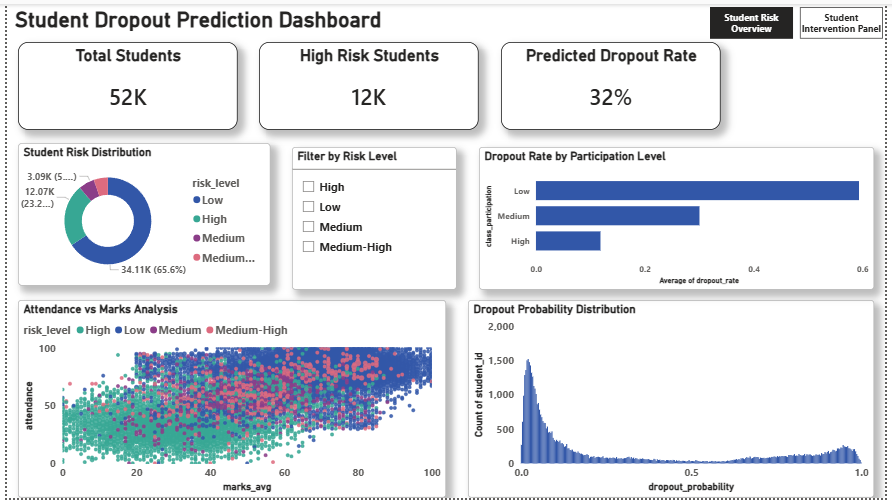

The dashboard page shown, as its layout file describes it:
{"tool":"powerbi","page":{"name":"Student Risk Overview","canvas":[1280,720],"ordinal":0},"visuals":[{"type":"cardVisual","title":"Total Students","fields":{"Data":["CountNonNull(dashboard_data.student_id)"]},"box":[16,55,320,128],"z":0},{"type":"cardVisual","title":"High Risk Students","fields":{"Data":["dashboard_data.High Risk Students"]},"box":[368,55,320,128],"z":1000},{"type":"cardVisual","title":"Predicted Dropout Rate","fields":{"Data":["dashboard_data.Dropout Rate"]},"box":[720,55,320,128],"z":2000},{"type":"donutChart","title":" Student Risk Distribution","fields":{"Category":["dashboard_data.risk_level"],"Y":["CountNonNull(dashboard_data.student_id)"]},"box":[16,203,368,208],"z":3000},{"type":"scatterChart","title":"Attendance vs Marks Analysis","fields":{"X":["dashboard_data.marks_avg"],"Y":["dashboard_data.attendance"],"Series":["dashboard_data.risk_level"],"Size":["CountNonNull(dashboard_data.student_id)"]},"box":[16,432,624,288],"z":4000},{"type":"slicer","title":"Filter by Risk Level","fields":{"Values":["dashboard_data.risk_level"]},"box":[416,208,240,208],"z":5000},{"type":"columnChart","title":"Dropout Probability Distribution","fields":{"Y":["CountNonNull(dashboard_data.student_id)"],"Category":["dashboard_data.dropout_probability"]},"box":[672,432,592,288],"z":6000},{"type":"pageNavigator","box":[1024,5,252,46],"z":7000},{"type":"shape","title":"Student Dropout Prediction Dashboard","box":[12,5,623,48],"z":8000},{"type":"clusteredBarChart","title":"Dropout Rate by Participation Level","fields":{"Category":["dropout_by_participation.class_participation"],"Y":["Avg(dropout_by_participation.dropout_rate)"]},"box":[688,208,576,208],"z":9000}]}

Visuals, with their boxes in screenshot pixels (x1, y1, x2, y2), scaled from the page's 1280x720 canvas onto the 892x502 screenshot:
"Total Students" cardVisual: {"left": 11, "top": 38, "right": 234, "bottom": 128}
"High Risk Students" cardVisual: {"left": 256, "top": 38, "right": 479, "bottom": 128}
"Predicted Dropout Rate" cardVisual: {"left": 502, "top": 38, "right": 725, "bottom": 128}
" Student Risk Distribution" donutChart: {"left": 11, "top": 142, "right": 268, "bottom": 287}
"Attendance vs Marks Analysis" scatterChart: {"left": 11, "top": 301, "right": 446, "bottom": 501}
"Filter by Risk Level" slicer: {"left": 290, "top": 145, "right": 457, "bottom": 290}
"Dropout Probability Distribution" columnChart: {"left": 468, "top": 301, "right": 881, "bottom": 501}
pageNavigator: {"left": 714, "top": 3, "right": 889, "bottom": 36}
"Student Dropout Prediction Dashboard" shape: {"left": 8, "top": 3, "right": 443, "bottom": 37}
"Dropout Rate by Participation Level" clusteredBarChart: {"left": 479, "top": 145, "right": 881, "bottom": 290}
